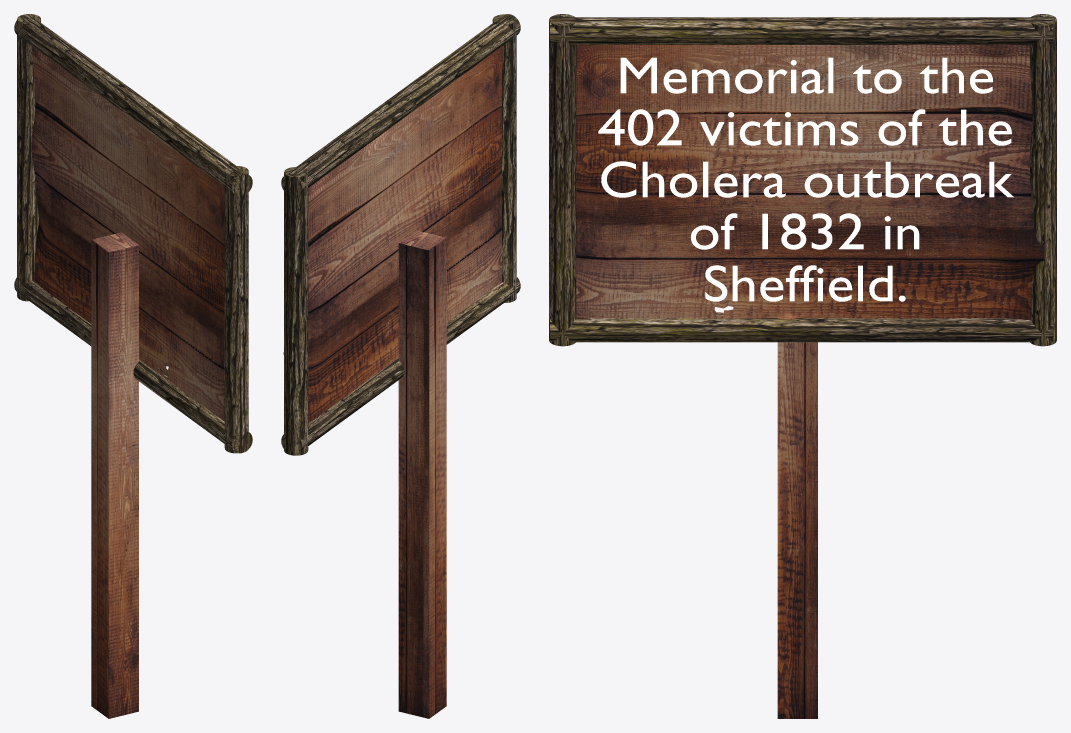
The model's file is CholeraW.glb.
3 renders of one model, left to right at view 1: azimuth 30°, elevation 25°; view 2: azimuth 150°, elevation 25°; view 3: azimuth 270°, elevation 25°, orthographic. The views are drawn at different scales.
Visible parts, largest first — view 1: Plane_Plane.001, Cube_Cube.001, Cylinder.003, Cylinder.002, Cylinder.004, Cylinder.001; view 2: Plane_Plane.001, Cube_Cube.001, Cylinder.004, Cylinder.003, Cylinder.002, Cylinder.001; view 3: Plane_Plane.001, Text, Cube_Cube.001, Cylinder.003, Cylinder.001, Cylinder.002, Cylinder.004.
Part boxes in pixels (left/top/right/bottom): Plane_Plane.001: left=31, top=46, right=224, bottom=421; Cube_Cube.001: left=91, top=232, right=138, bottom=718; Cylinder.003: left=14, top=14, right=252, bottom=195; Cylinder.002: left=224, top=166, right=248, bottom=453; Cylinder.004: left=17, top=14, right=40, bottom=301; Cylinder.001: left=14, top=277, right=252, bottom=453; Plane_Plane.001: left=283, top=45, right=503, bottom=422; Cube_Cube.001: left=398, top=230, right=446, bottom=718; Cylinder.004: left=284, top=167, right=308, bottom=455; Cylinder.003: left=281, top=14, right=520, bottom=194; Cylinder.002: left=492, top=14, right=516, bottom=302; Cylinder.001: left=281, top=277, right=520, bottom=453; Plane_Plane.001: left=576, top=44, right=1045, bottom=320; Text: left=598, top=57, right=1013, bottom=301; Cube_Cube.001: left=777, top=342, right=817, bottom=718; Cylinder.003: left=550, top=17, right=1053, bottom=44; Cylinder.001: left=550, top=314, right=1053, bottom=342; Cylinder.002: left=549, top=14, right=576, bottom=346; Cylinder.004: left=1029, top=14, right=1056, bottom=346.
Size of the model in its own units: 0.3738 by 4.6 by 3.01.
4 materials, 3 textured.
